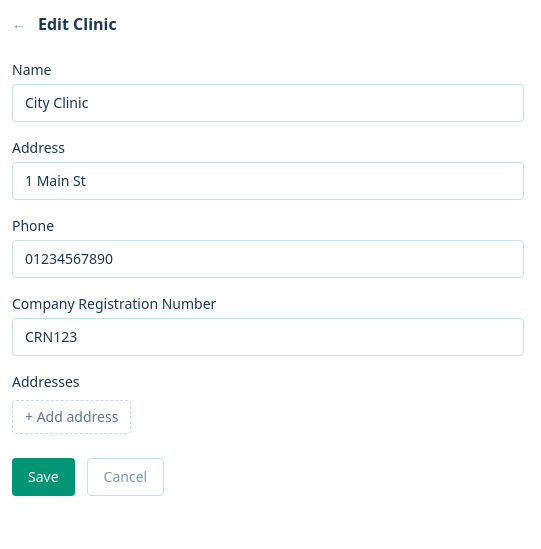
Test case: ClinicEditClient — edit form › shows save error when clinics_update fails
Step 1. Click the button "Save" → (43, 477), box [12, 458, 75, 496]
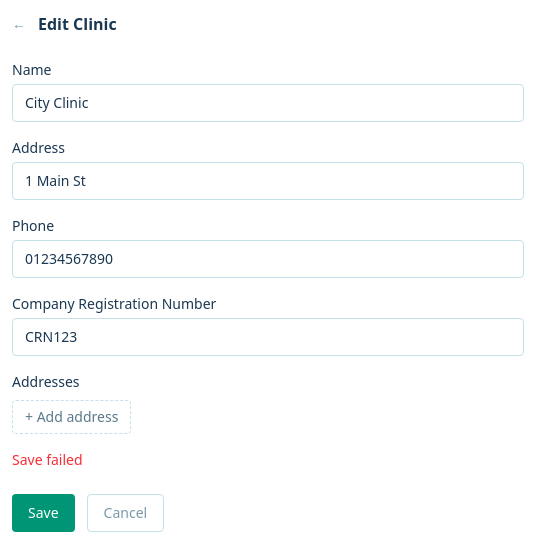
Expected: the text "Save failed" is shown, [12, 450, 83, 469]
